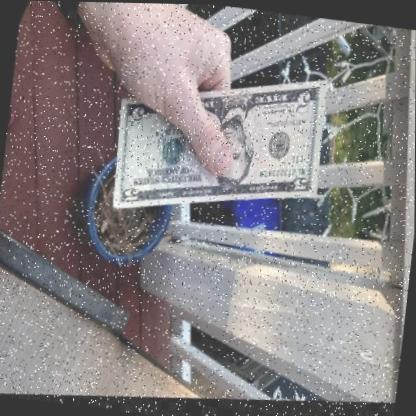five-front: (111, 85, 325, 211)
